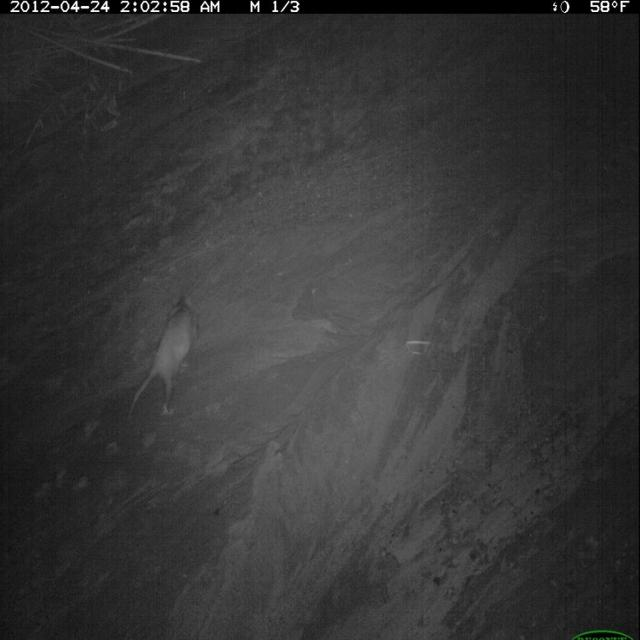opossum: (124, 291, 202, 426)
